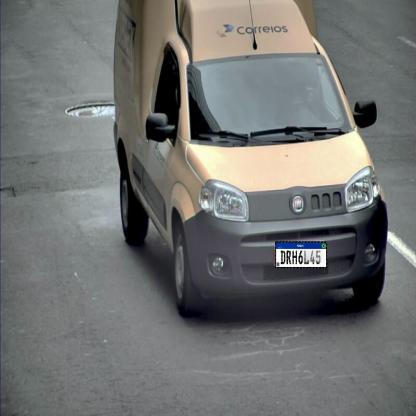PlacaM: (275, 242, 327, 269)
